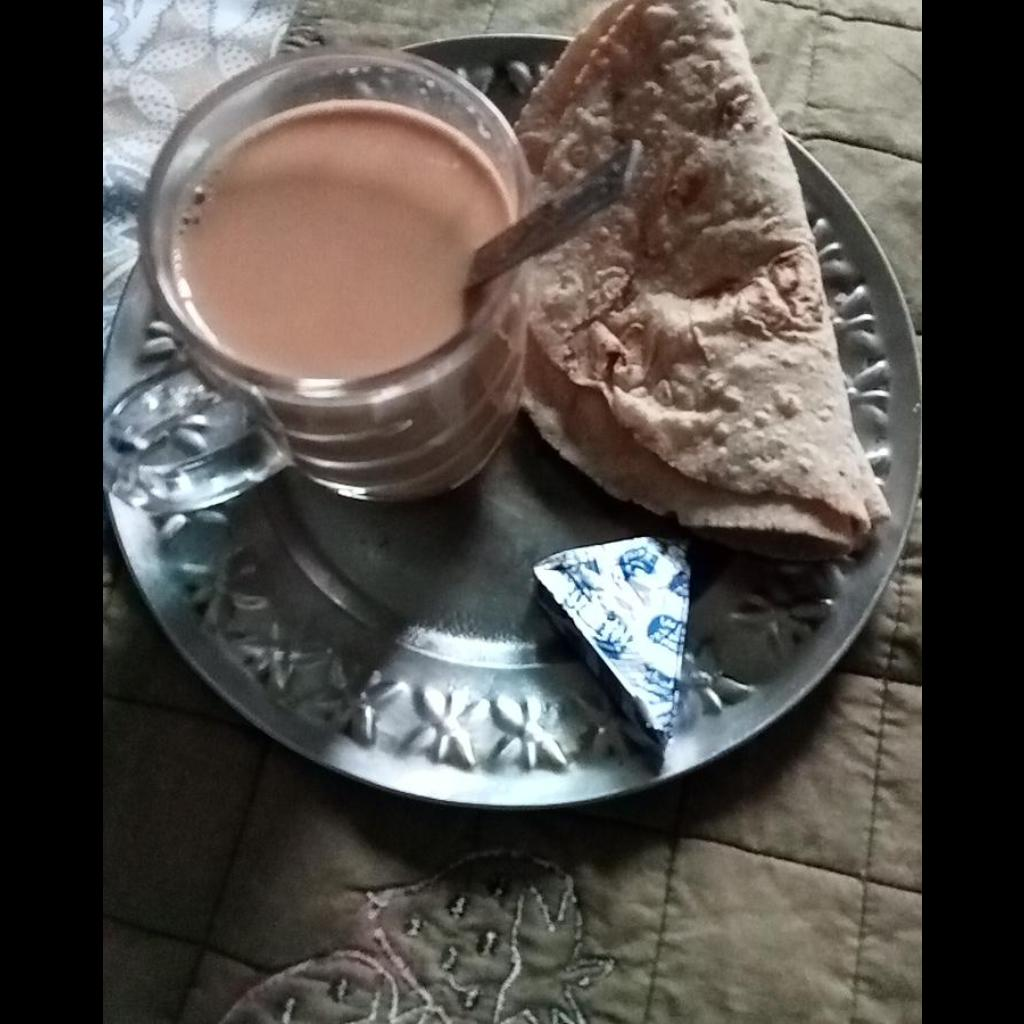cha: (182, 104, 505, 380)
ruti: (516, 0, 889, 548)
